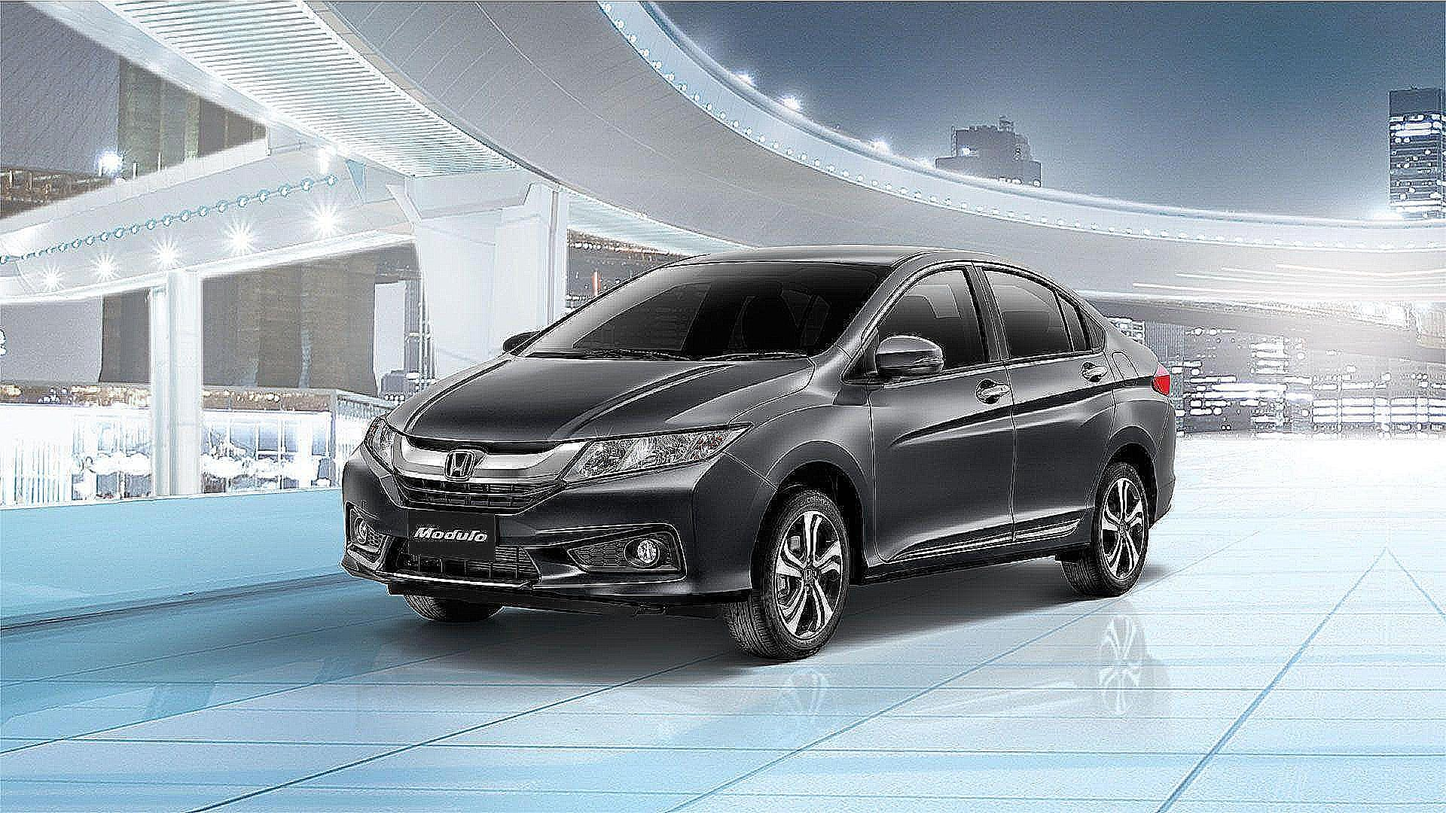Car hood: (382, 351, 822, 447)
Fender - -F-L-: (720, 341, 875, 584)
Fender - -R-L-: (1084, 335, 1170, 550)
Front bumper: (326, 463, 779, 624)
Headlight - -L-: (554, 418, 758, 489)
Headlight - -R-: (353, 410, 403, 471)
Passenger-s door - -F-L-: (872, 257, 1014, 564)
Passenger-s door - -R-L-: (1015, 267, 1120, 541)
Rear bumper: (1150, 404, 1184, 533)
Rear light - -L-: (1141, 348, 1190, 401)
Side bumper - -L-: (853, 503, 1100, 589)
Side mirror - -L-: (864, 323, 953, 390)
Side mirror - -R-: (492, 321, 549, 360)
